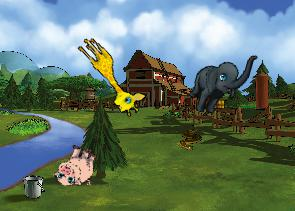elephant: (185, 41, 258, 123)
giraffe: (67, 33, 150, 120)
pig: (51, 140, 101, 193)
